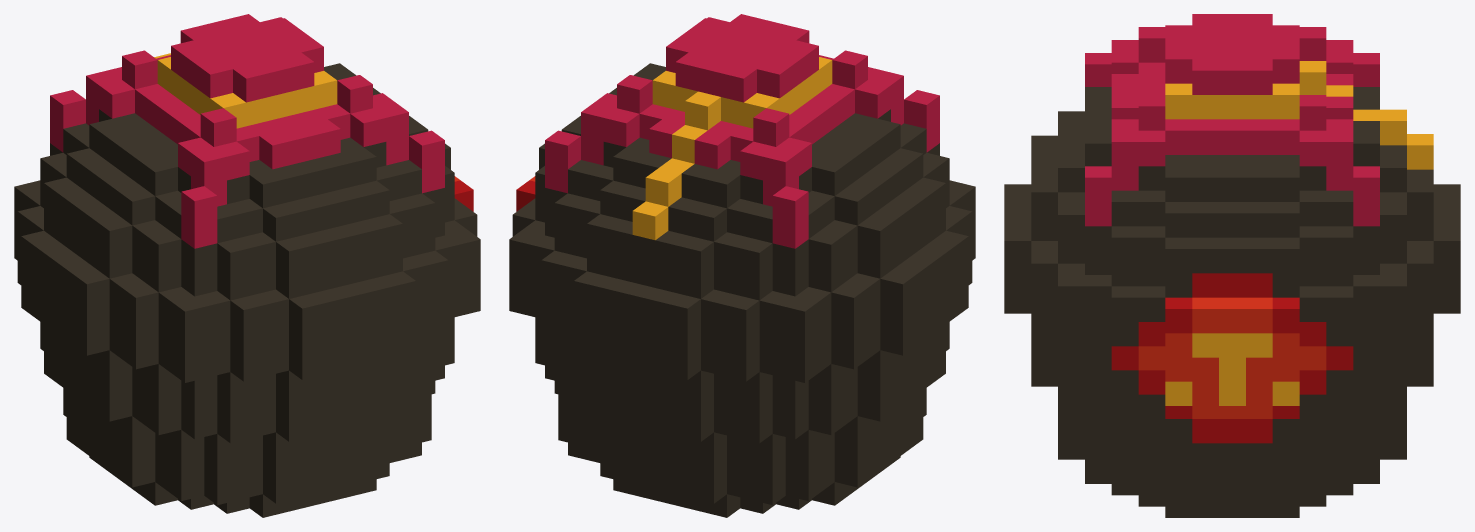
Rendered from Alcohal.fbx.
The picture shows the model from 3 angles, left to right: view 1: azimuth 30°, elevation 25°; view 2: azimuth 150°, elevation 25°; view 3: azimuth 270°, elevation 25°; orthographic projection. The views are drawn at different scales.
Visible parts, largest first — view 1: Alcohal:Alcohal; view 2: Alcohal:Alcohal; view 3: Alcohal:Alcohal.
Part boxes in pixels (x1,y1,x2,y2): Alcohal:Alcohal: (14, 14, 480, 517); Alcohal:Alcohal: (509, 14, 975, 517); Alcohal:Alcohal: (1004, 14, 1460, 517).
Bounding box in the file's own units: 17 × 17 × 17.
